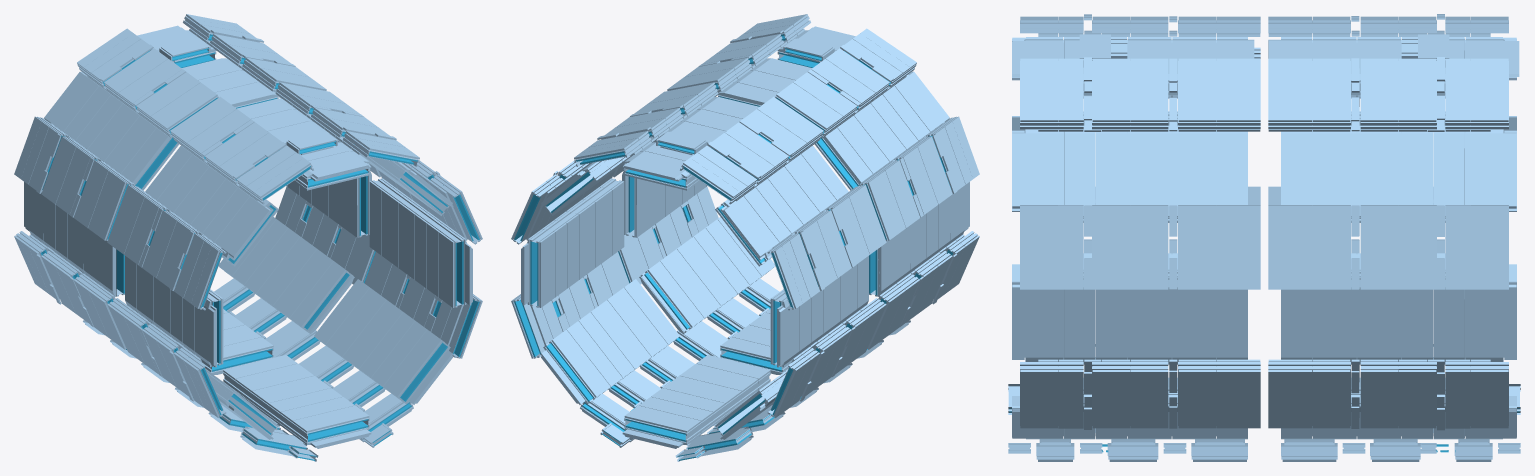
File: barrel_middle_vr.glb
3 renders of one model, left to right at view 1: azimuth 30°, elevation 25°; view 2: azimuth 150°, elevation 25°; view 3: azimuth 270°, elevation 25°, orthographic. The views are drawn at different scales.
Visible parts, largest first — view 1: barrel_middle_external, barrel_middle_internal; view 2: barrel_middle_external, barrel_middle_internal; view 3: barrel_middle_external.
Boxes of the visible parts, x1,y1,x2,y2 form: barrel_middle_external: (14, 14, 482, 461); barrel_middle_internal: (40, 34, 479, 460); barrel_middle_external: (511, 14, 979, 461); barrel_middle_internal: (514, 34, 953, 460); barrel_middle_external: (1008, 14, 1520, 461).
Bounding box in the file's own units: 16.96 × 16.9 × 19.6.
